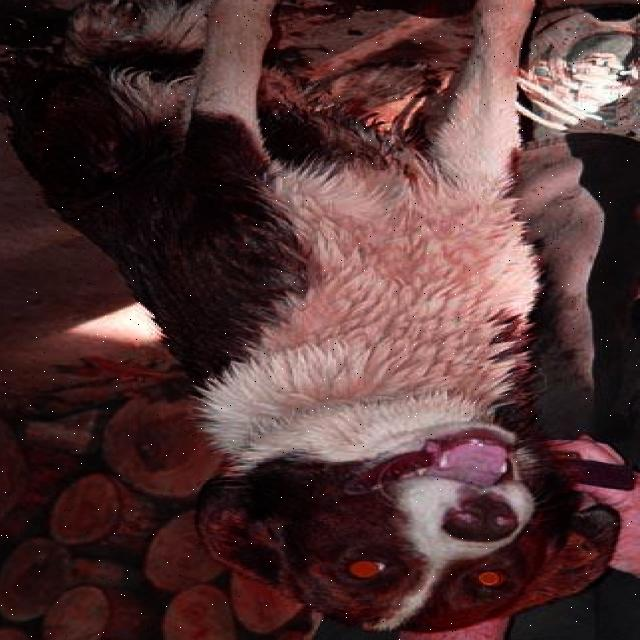Dog: (185, 421, 630, 640)
